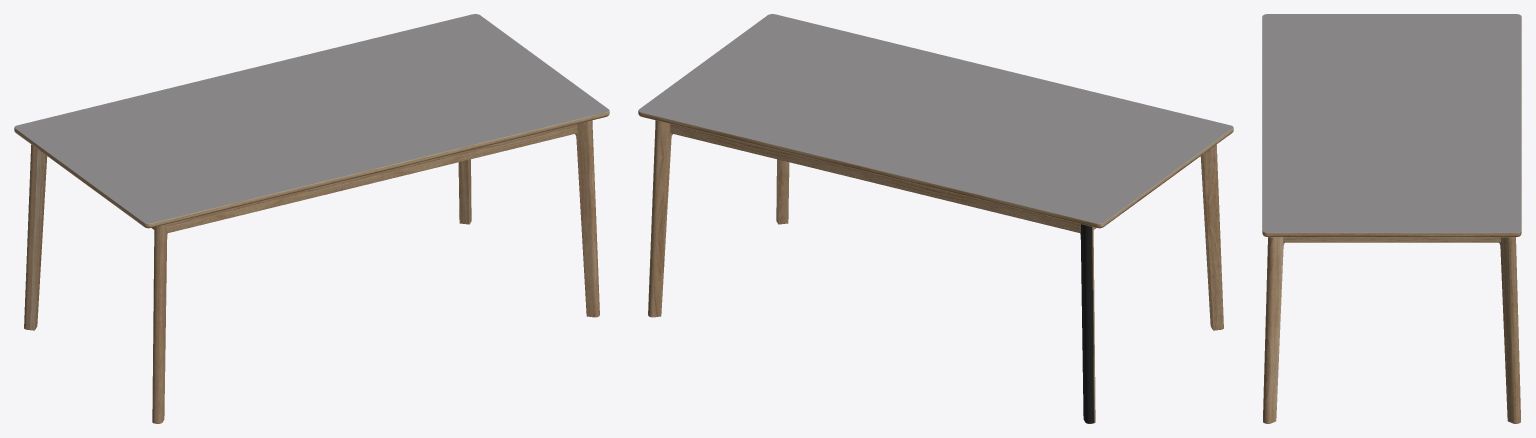
The model's file is table_27_09.001.fbx.
The picture shows the model from 3 angles, left to right: view 1: azimuth 30°, elevation 25°; view 2: azimuth 150°, elevation 25°; view 3: azimuth 270°, elevation 25°; orthographic projection. The views are drawn at different scales.
Parts seen in each view (by area): view 1: table_27_09.001; view 2: table_27_09.001; view 3: table_27_09.001.
Boxes of the visible parts, box(x1,y1,x2,y2) form: table_27_09.001: box(14, 14, 609, 423); table_27_09.001: box(638, 14, 1233, 423); table_27_09.001: box(1262, 14, 1521, 423).
Size of the model in its own units: 180 by 75 by 89.99.
Materials: 1 (1 with a texture image).
